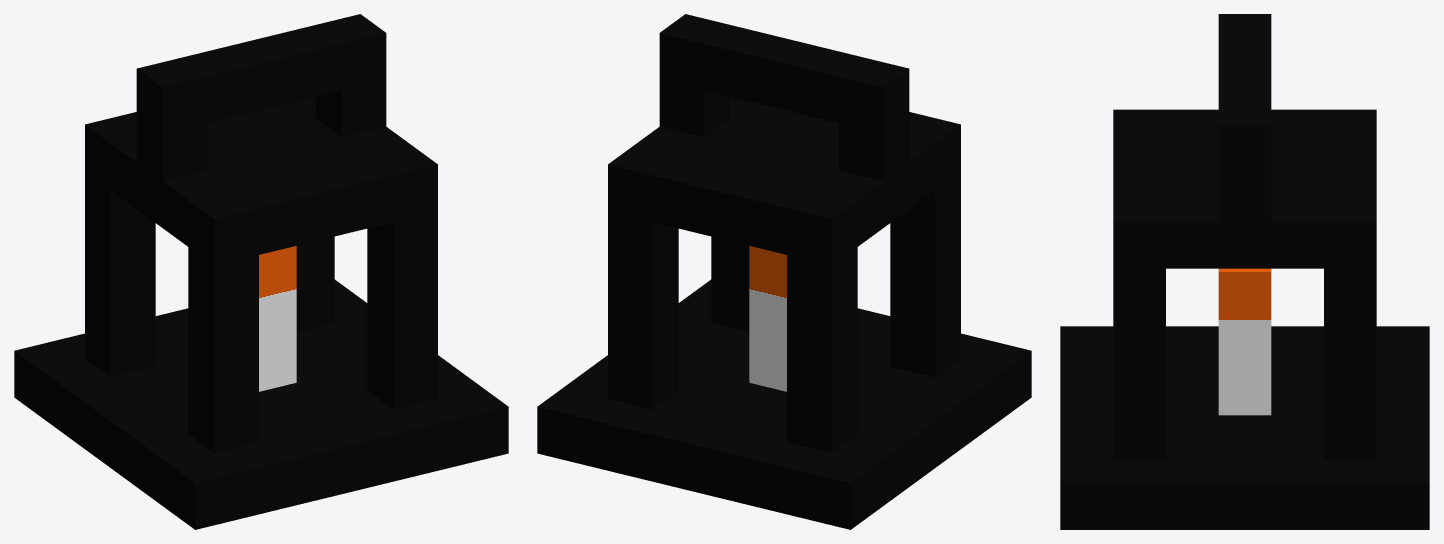
The model's file is lamp_on.dae.
The picture shows the model from 3 angles, left to right: view 1: azimuth 30°, elevation 25°; view 2: azimuth 150°, elevation 25°; view 3: azimuth 270°, elevation 25°; orthographic projection. The views are drawn at different scales.
Visible parts, largest first — view 1: lamp_on; view 2: lamp_on; view 3: lamp_on.
Boxes of the visible parts, x1,y1,x2,y2 form: lamp_on: [14, 14, 508, 529]; lamp_on: [537, 14, 1031, 529]; lamp_on: [1060, 14, 1429, 529].
Bounding box in the file's own units: 0.7 × 0.8 × 0.7.
1 material, 1 textured.
